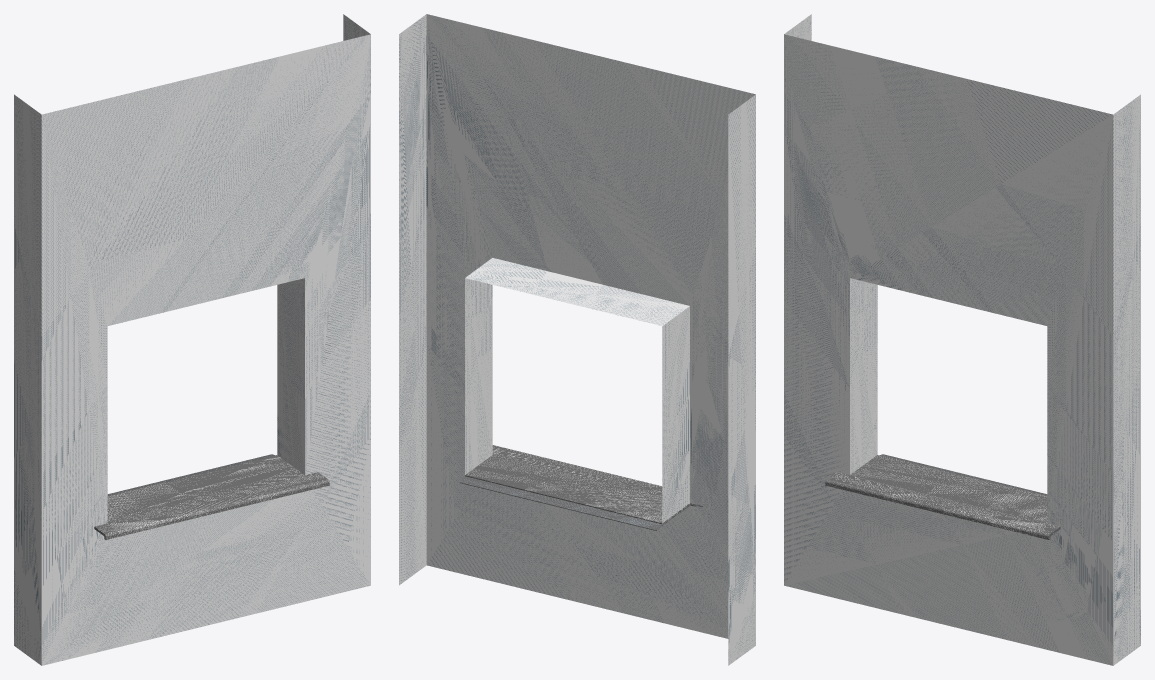
The model's file is WindowBlock_os_[250x400]_150x143x[090].dae.
3 renders of one model, left to right at view 1: azimuth 30°, elevation 25°; view 2: azimuth 150°, elevation 25°; view 3: azimuth 330°, elevation 25°, orthographic.
Parts seen in each view (by area): view 1: group_1 (×2), group_2; view 2: group_1 (×2), group_2 (×2); view 3: group_1 (×2), group_2.
Boxes of the visible parts, bbox=[...] form: group_1 (×2): bbox=[14, 14, 370, 665]; group_2: bbox=[94, 455, 329, 539]; group_1 (×2): bbox=[399, 14, 755, 665]; group_2 (×2): bbox=[459, 445, 702, 530]; group_1 (×2): bbox=[784, 14, 1140, 665]; group_2: bbox=[825, 455, 1059, 539].
Size of the model in its own units: 98.43 by 23.03 by 157.
